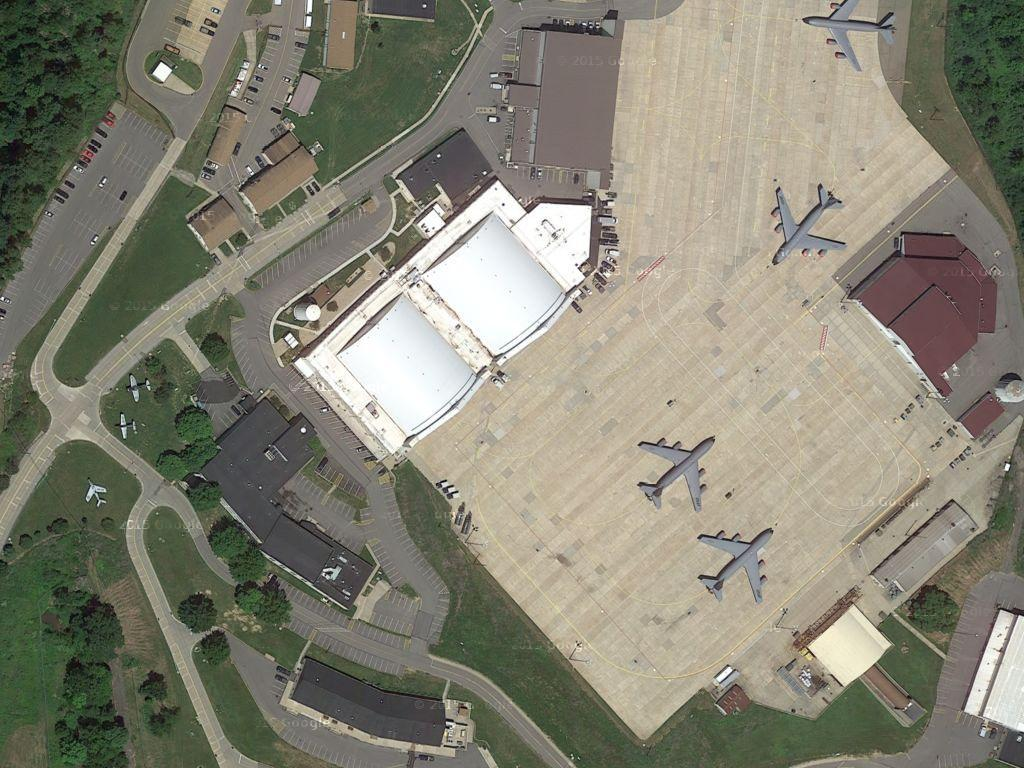KC-135: (766, 179, 851, 268), (631, 435, 720, 515), (694, 524, 776, 608), (801, 5, 899, 70)
